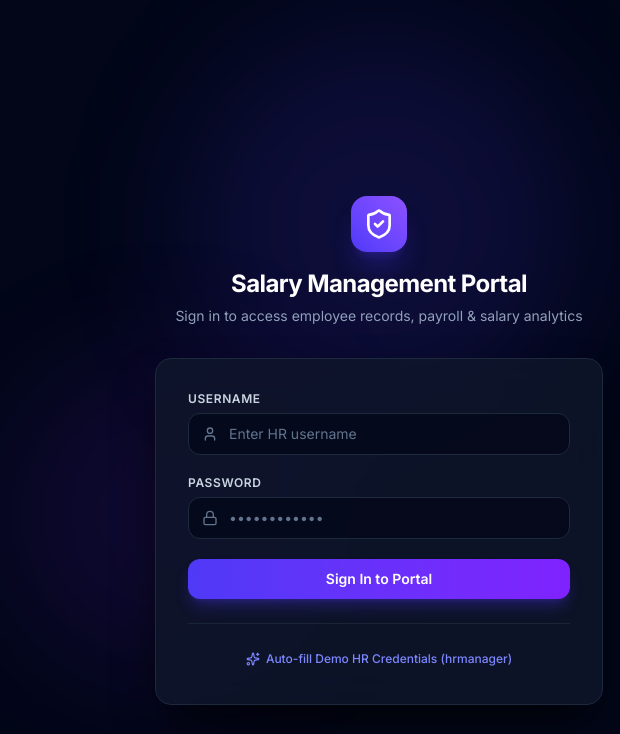
Test: LoginPage › autofills demo credentials when demo button is clicked
The width and height of the screenshot is (620, 734).
Click the button "Auto-fill Demo HR Credentials (hrmanager)": click(379, 658) x1=246 y1=650 x2=512 y2=666
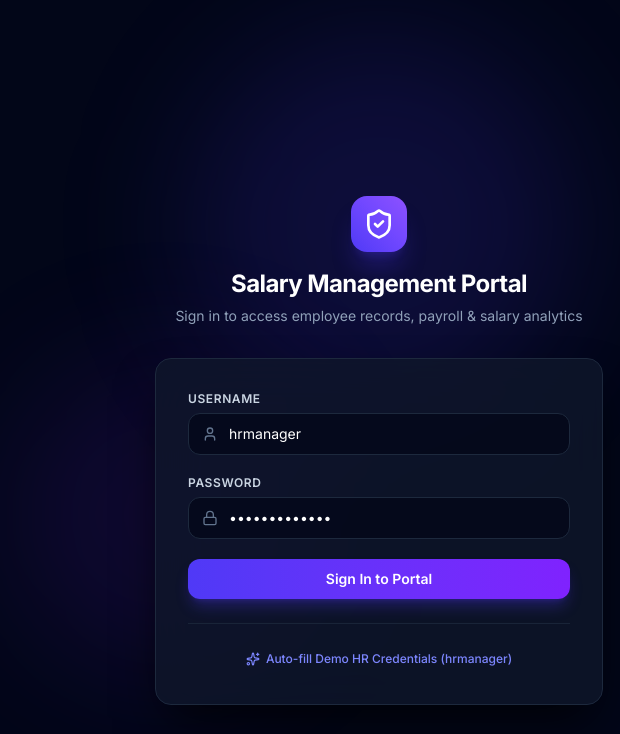
Result: the field with placeholder "Enter HR username" holds "hrmanager" at x1=188 y1=412 x2=570 y2=454
Result: the password field with placeholder "••••••••••••" holds "hrpassword123" at x1=188 y1=496 x2=570 y2=538
